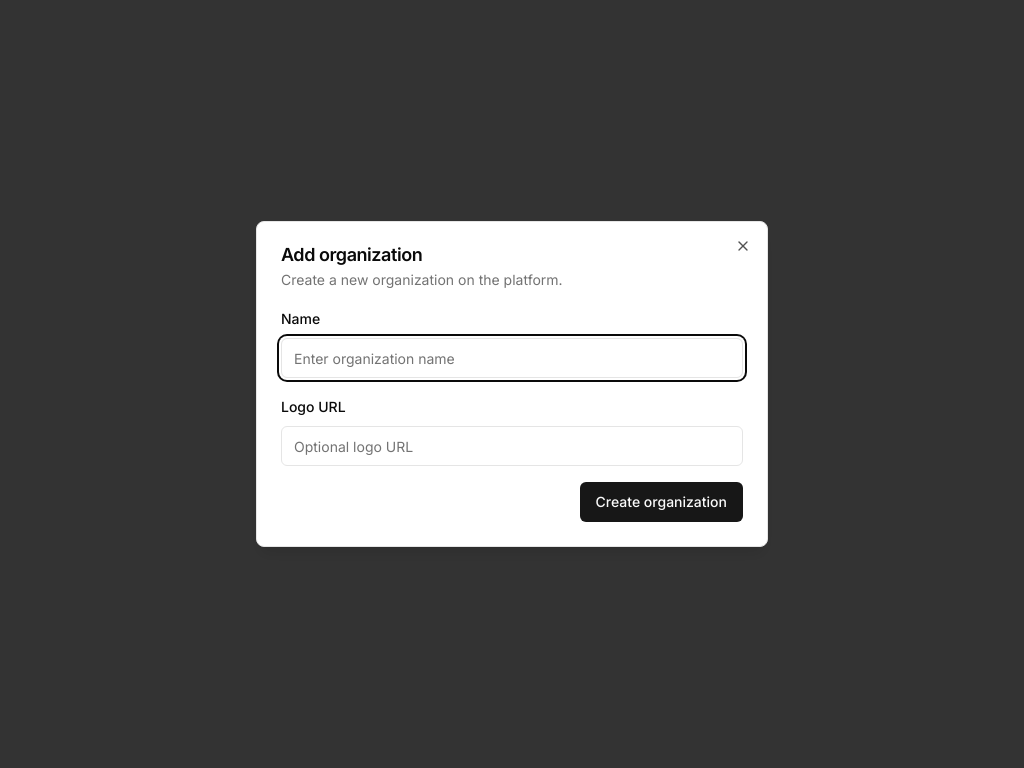
OrganizationFormDialog › shows an inline name error on organization_name_taken (no toast)
In the field labelled "Name": [512, 358] box [281,338,743,378], type "Acme"
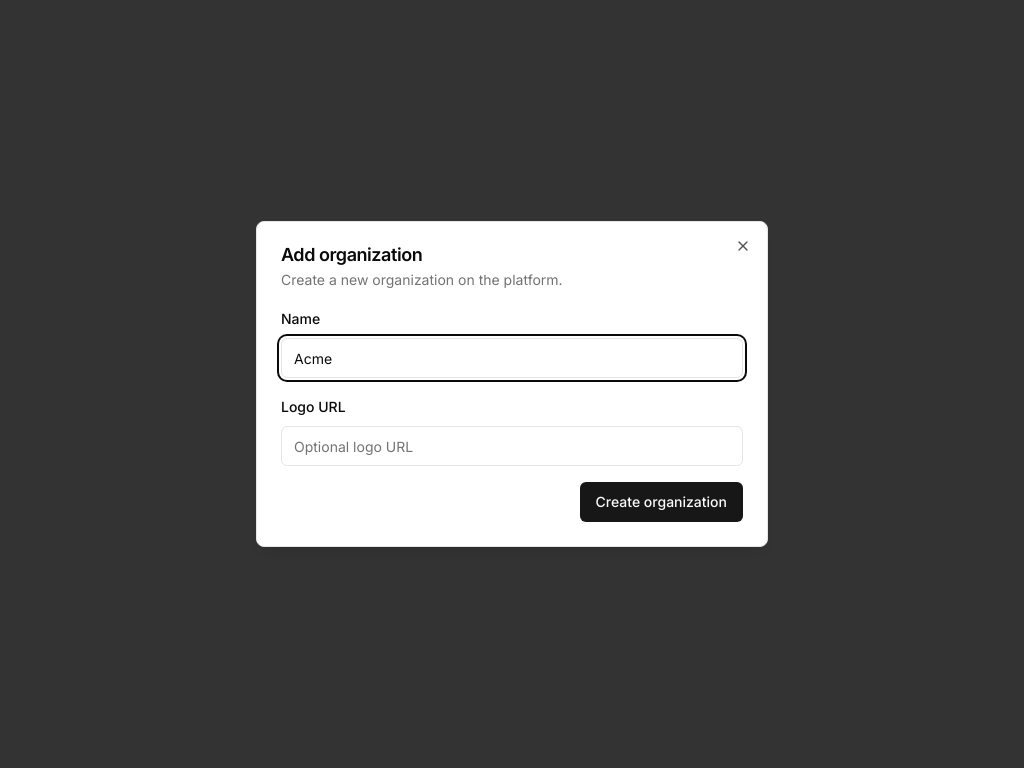
Click the button "Create organization": [661, 502] box [580,482,743,522]
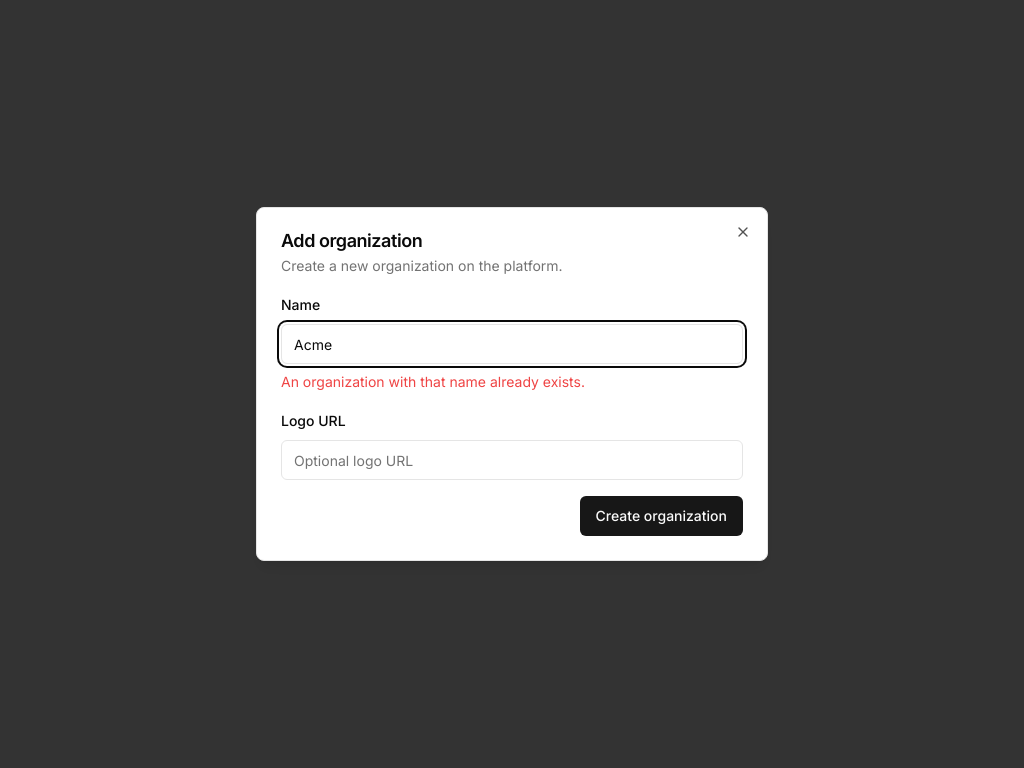
Result: the text "An organization with that name already exists." is shown at [281,373,585,390]
